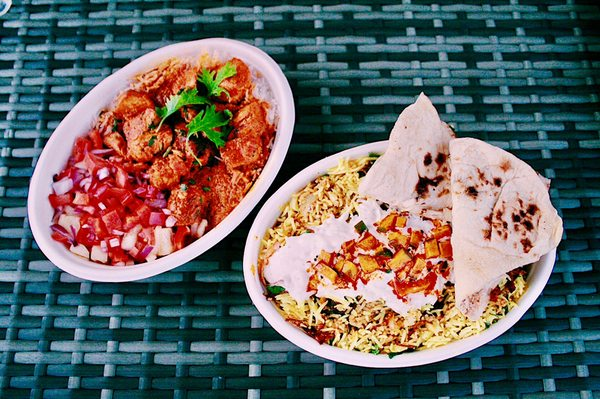sushi: (26, 35, 297, 284)
